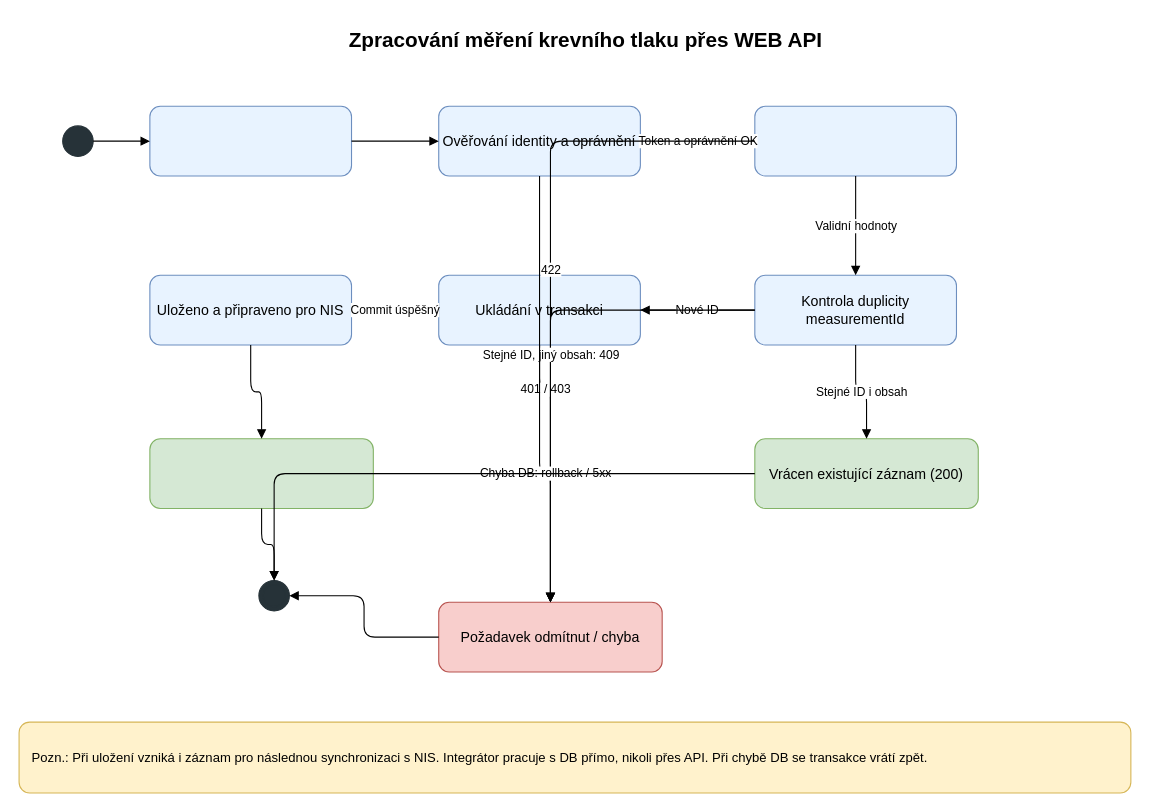
The diagram is 1150 pixels wide and 812 high, and some of its shapes have lost their labels. Each missing label, with the box of its shape:
Potvrzeno klientovi (201): (149, 438, 373, 508)
Požadavek přijat: (149, 105, 352, 176)
Validace dat měření: (754, 105, 956, 176)
